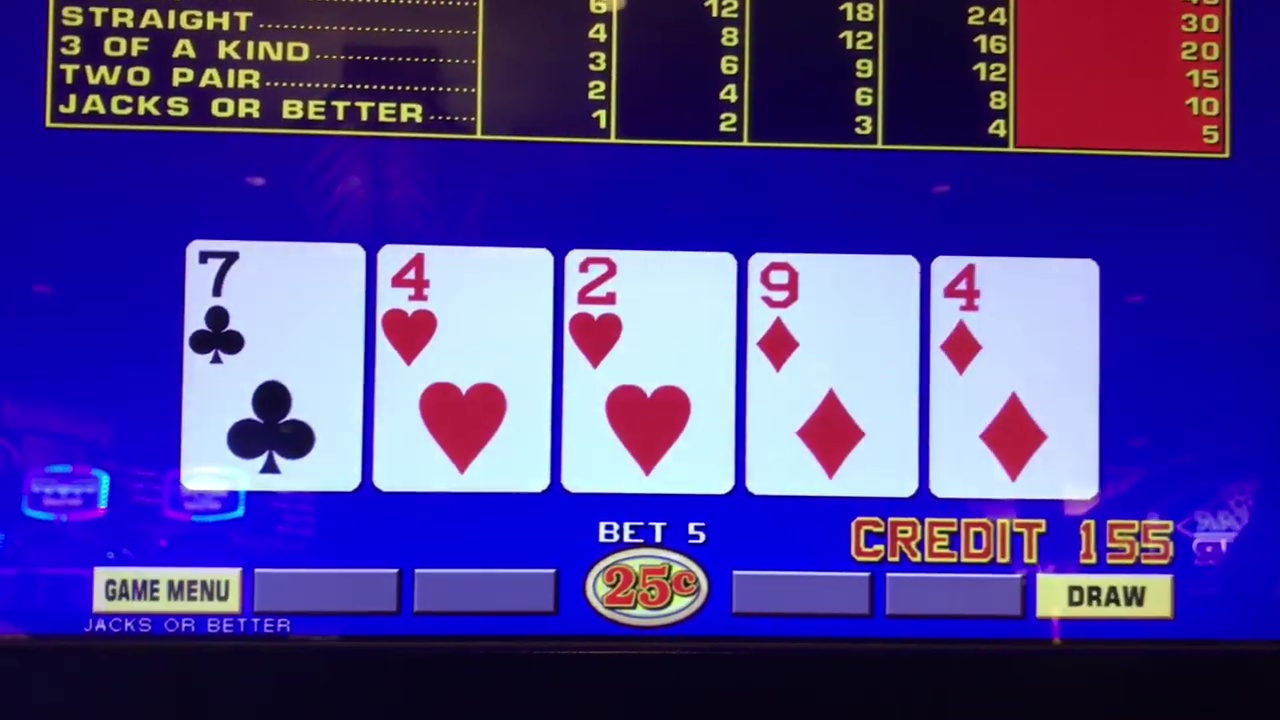C7: (193, 243, 356, 378)
D4: (939, 262, 1096, 385)
D9: (752, 254, 914, 387)
H2: (568, 256, 729, 384)
H4: (381, 246, 549, 378)
